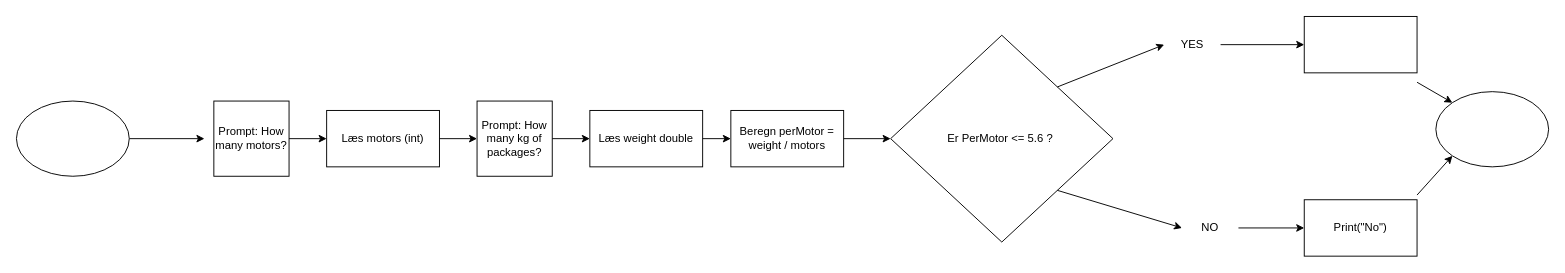
Some shapes in this 1565 by 273 pixel diagram are drawn without their labels. Here are the shapes that lost their labels. From the top down, the centre of each, then its label:
(1360,44): Print("Yes")
(72,138): START
(1492,129): STOP
